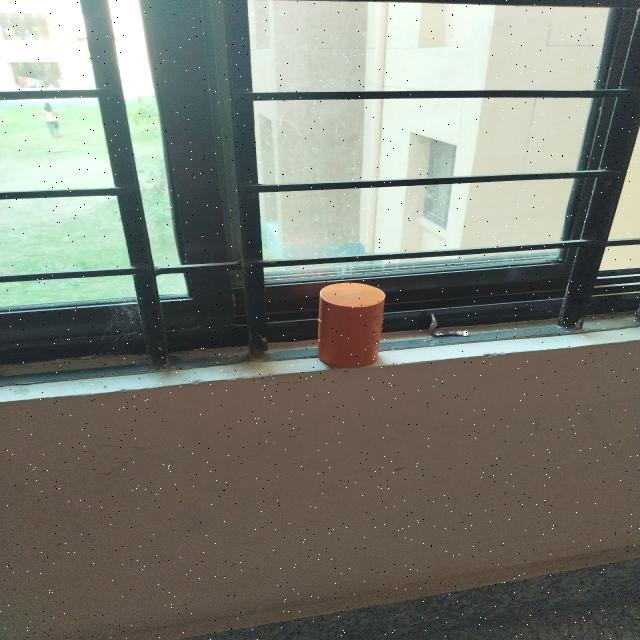Cylinder: (317, 282, 386, 367)
